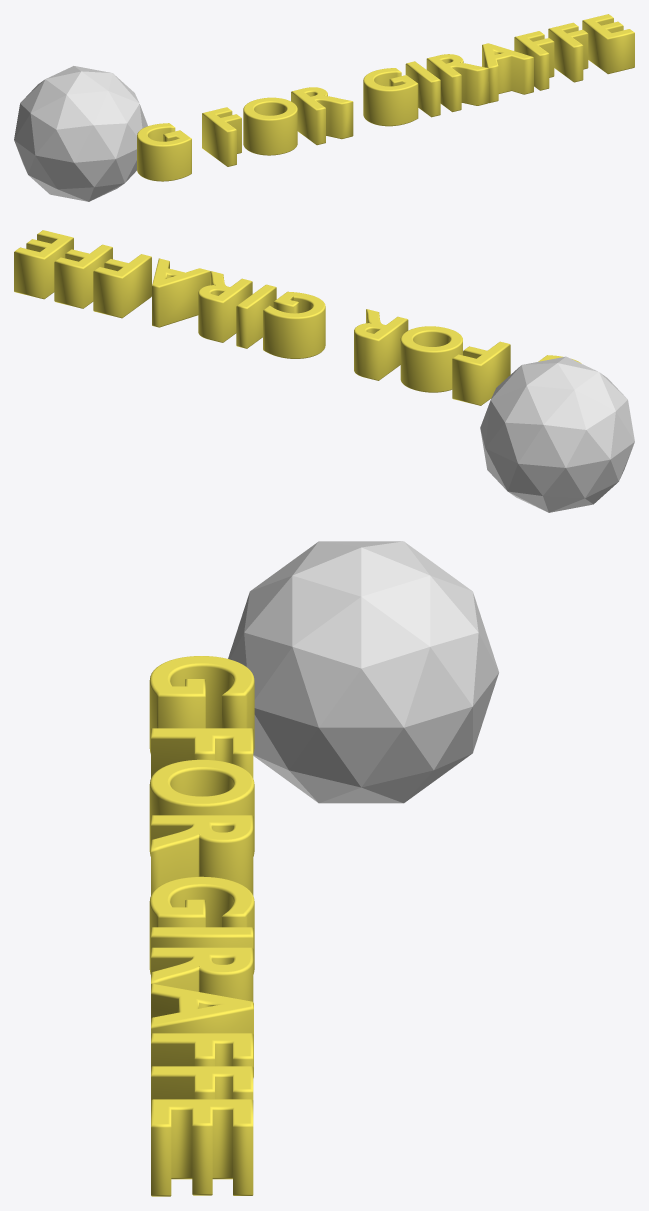
File: GIRAFFEtext.fbx
3 renders of one model, top to bottom at view 1: azimuth 30°, elevation 25°; view 2: azimuth 150°, elevation 25°; view 3: azimuth 270°, elevation 25°, orthographic. The views are drawn at different scales.
Parts seen in each view (by area): view 1: Text.001, Icosphere; view 2: Text.001, Icosphere; view 3: Text.001, Icosphere.
Part boxes in pixels (x1,y1,x2,y2): Text.001: (137,14,634,181); Icosphere: (14,66,147,201); Text.001: (14,230,581,405); Icosphere: (480,356,634,512); Text.001: (149,656,254,1196); Icosphere: (228,541,498,803).
Bounding box in the file's own units: 935 × 200 × 254.
